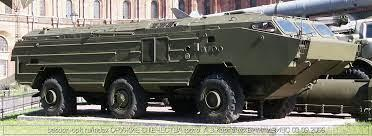rszo: (10, 6, 367, 127)
